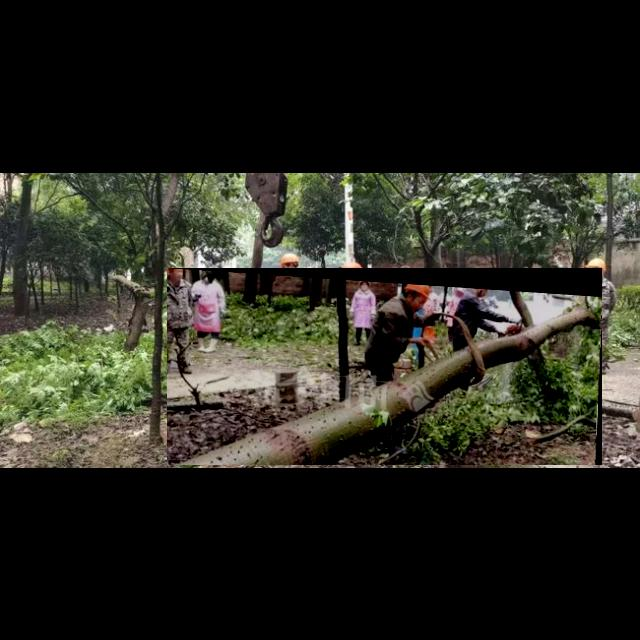Fallen Tree: (167, 268, 603, 466)
